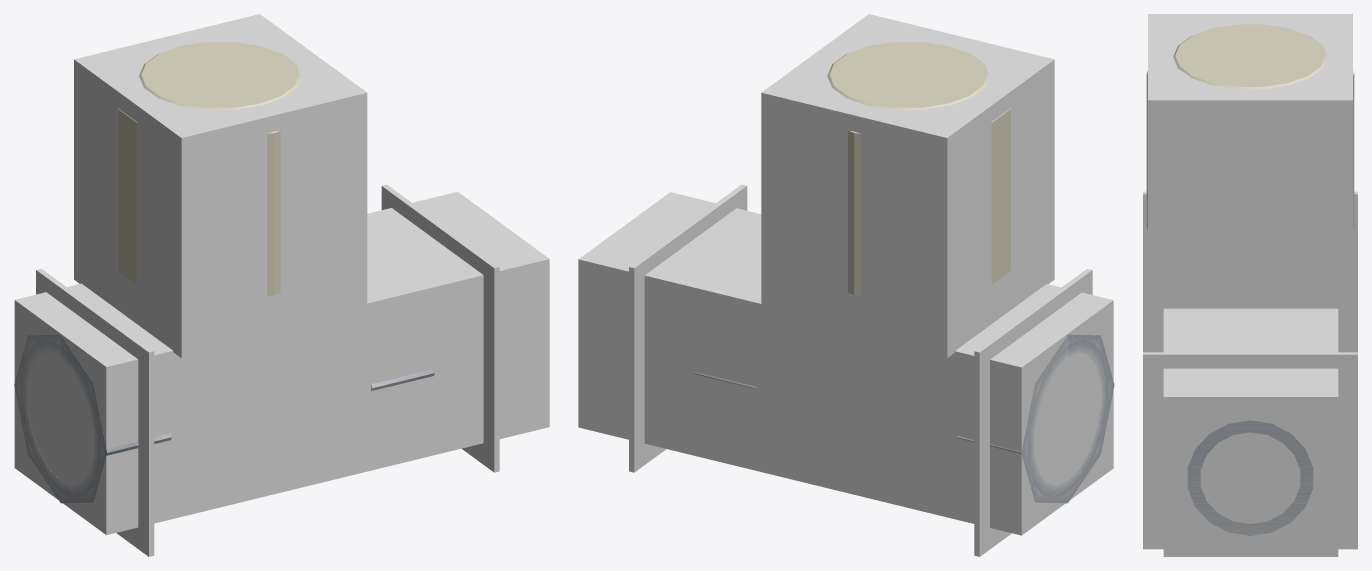
The model's file is termo_kran_1s2.FBX.
The picture shows the model from 3 angles, left to right: view 1: azimuth 30°, elevation 25°; view 2: azimuth 150°, elevation 25°; view 3: azimuth 270°, elevation 25°; orthographic projection. The views are drawn at different scales.
Parts seen in each view (by area): view 1: termoreg_kran_COL, termoreg_kran, Box002_est_, Box001_est_; view 2: termoreg_kran_COL, termoreg_kran, Box002_est_, Box001_est_; view 3: termoreg_kran_COL, termoreg_kran, Box001_est_, Box002_est_.
Boxes of the visible parts, x1,y1,x2,y2 form: termoreg_kran_COL: [14, 14, 549, 535]; termoreg_kran: [14, 42, 434, 503]; Box002_est_: [36, 268, 154, 556]; Box001_est_: [381, 184, 499, 472]; termoreg_kran_COL: [578, 14, 1113, 535]; termoreg_kran: [694, 42, 1114, 503]; Box002_est_: [974, 268, 1092, 556]; Box001_est_: [629, 184, 747, 472]; termoreg_kran_COL: [1148, 14, 1352, 556]; termoreg_kran: [1146, 24, 1354, 535]; Box001_est_: [1143, 352, 1357, 549]; Box002_est_: [1143, 191, 1357, 352].
Bounding box in the file's own units: 0.0817 × 0.0722 × 0.036.
3 materials, 2 textured.
